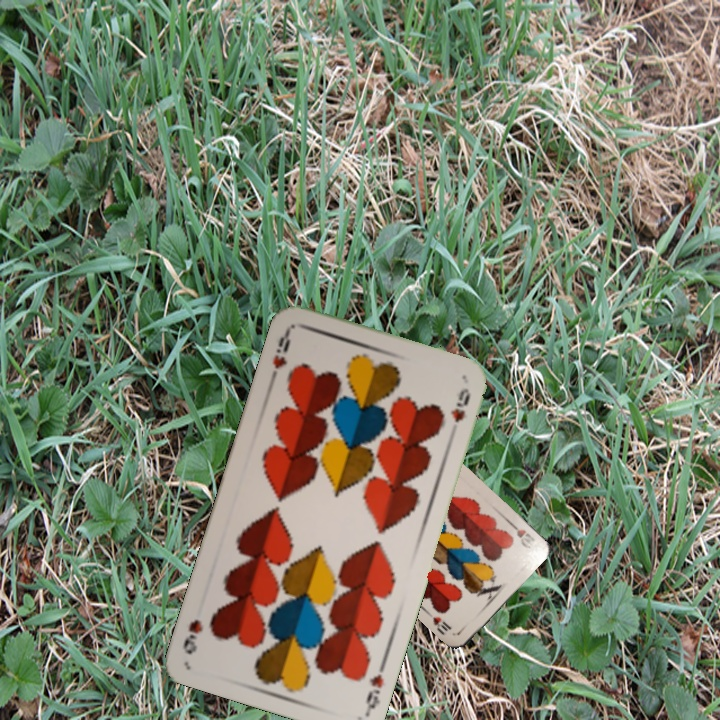H10: (505, 517, 537, 546)
H9: (267, 324, 293, 382), (361, 670, 386, 716)
